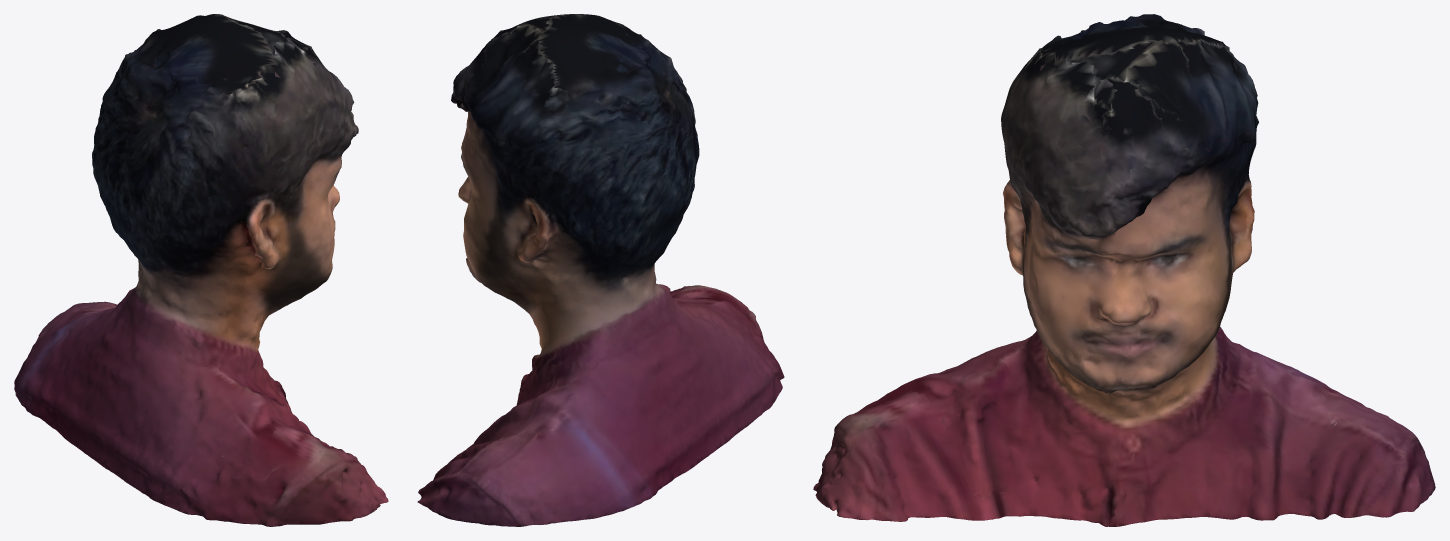
The picture shows the model from 3 angles, left to right: view 1: azimuth 30°, elevation 25°; view 2: azimuth 150°, elevation 25°; view 3: azimuth 270°, elevation 25°; orthographic projection. The views are drawn at different scales.
Visible parts, largest first — view 1: Mesh_0; view 2: Mesh_0; view 3: Mesh_0.
Part boxes in pixels (left/top/right/bottom): Mesh_0: left=14, top=14, right=388, bottom=526; Mesh_0: left=417, top=14, right=784, bottom=526; Mesh_0: left=813, top=14, right=1435, bottom=526.
Bounding box in the file's own units: 0.2589 × 0.3747 × 0.4575.
1 material, 1 textured.
